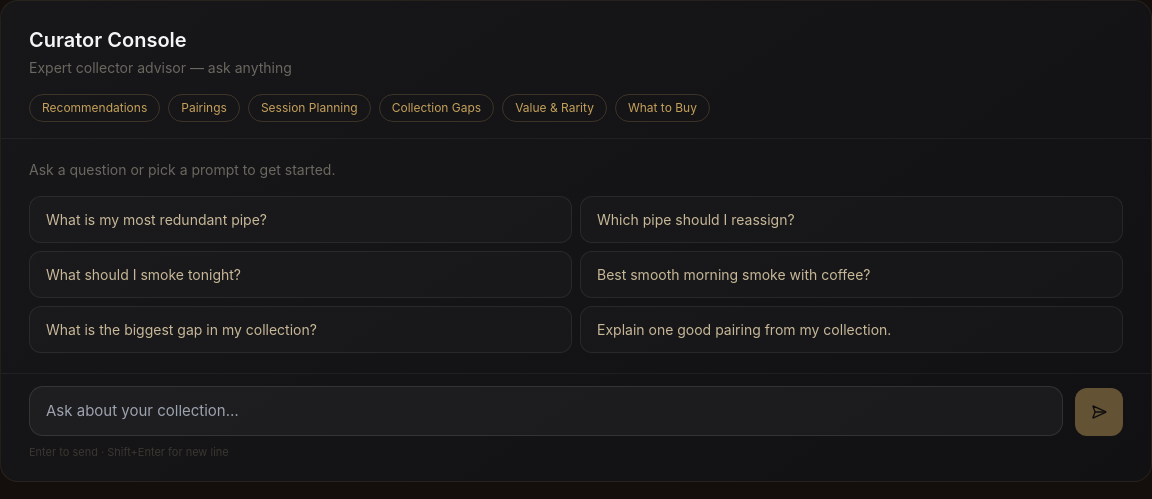
Test: ExpertTobacconistChat deterministic routing › keeps multi-module context available for deterministic collection facts
Type "Which wines have quantity 0?" into the text box with placeholder "Ask about your collection…" at (546,411), box [29,386,1063,436]
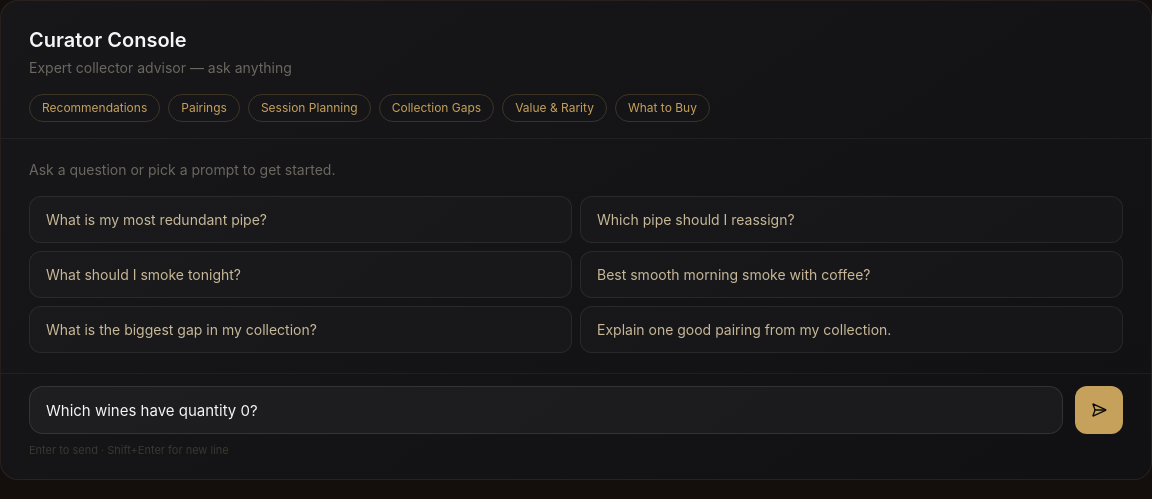
Click the button named "Send message" at (1099,410), box [1075,386,1123,434]
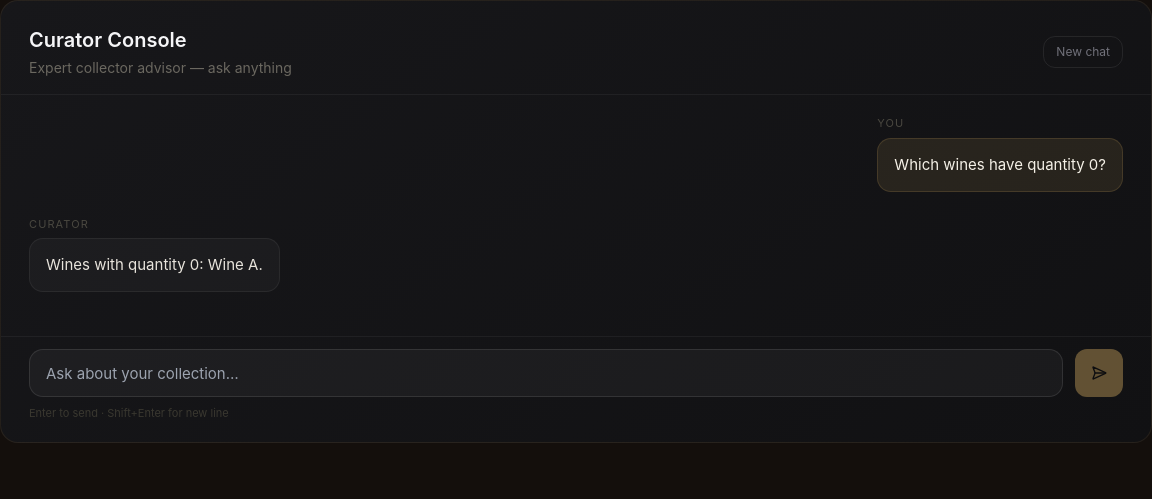
Now the text "Wines with quantity 0: Wine A." is shown, box [46,251,263,279]
